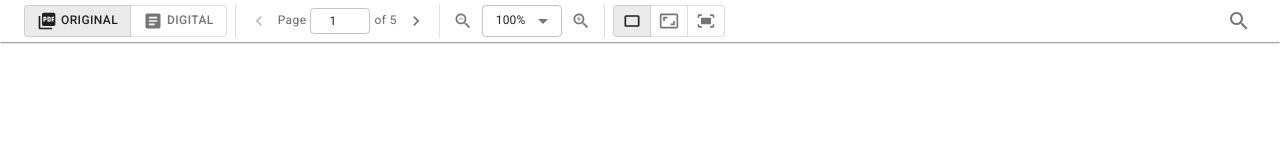
Scenario: PDFControls › shows search bar when search toggle is clicked
The width and height of the screenshot is (1280, 160).
Click the button named "Search in document" at (1239, 21), box [1222,4,1256,38]
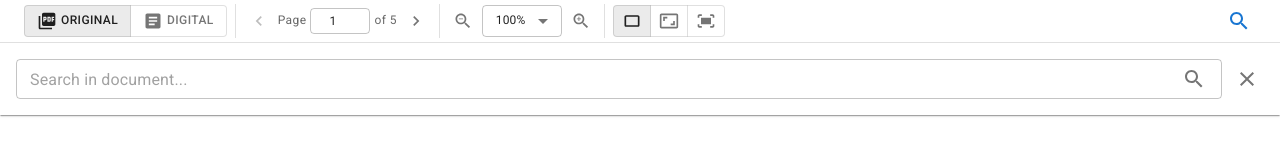
Expected: the field with placeholder "Search in document..." is shown, [16,59,1169,99]
